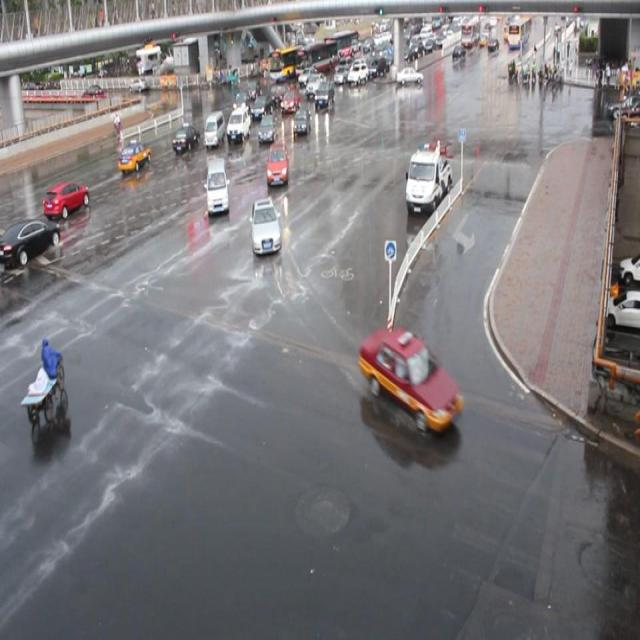bus: (404, 145, 452, 213)
car: (359, 327, 463, 432), (1, 217, 61, 265), (249, 198, 282, 255), (43, 179, 90, 218), (118, 138, 151, 171), (266, 142, 289, 184), (172, 121, 200, 150), (313, 80, 335, 106), (251, 94, 274, 117), (304, 72, 326, 96), (280, 88, 300, 113), (258, 115, 277, 141), (293, 108, 311, 134), (233, 89, 250, 112), (245, 78, 262, 100), (272, 84, 290, 102)
truck: (204, 156, 230, 214), (227, 106, 250, 141), (204, 111, 225, 146)
